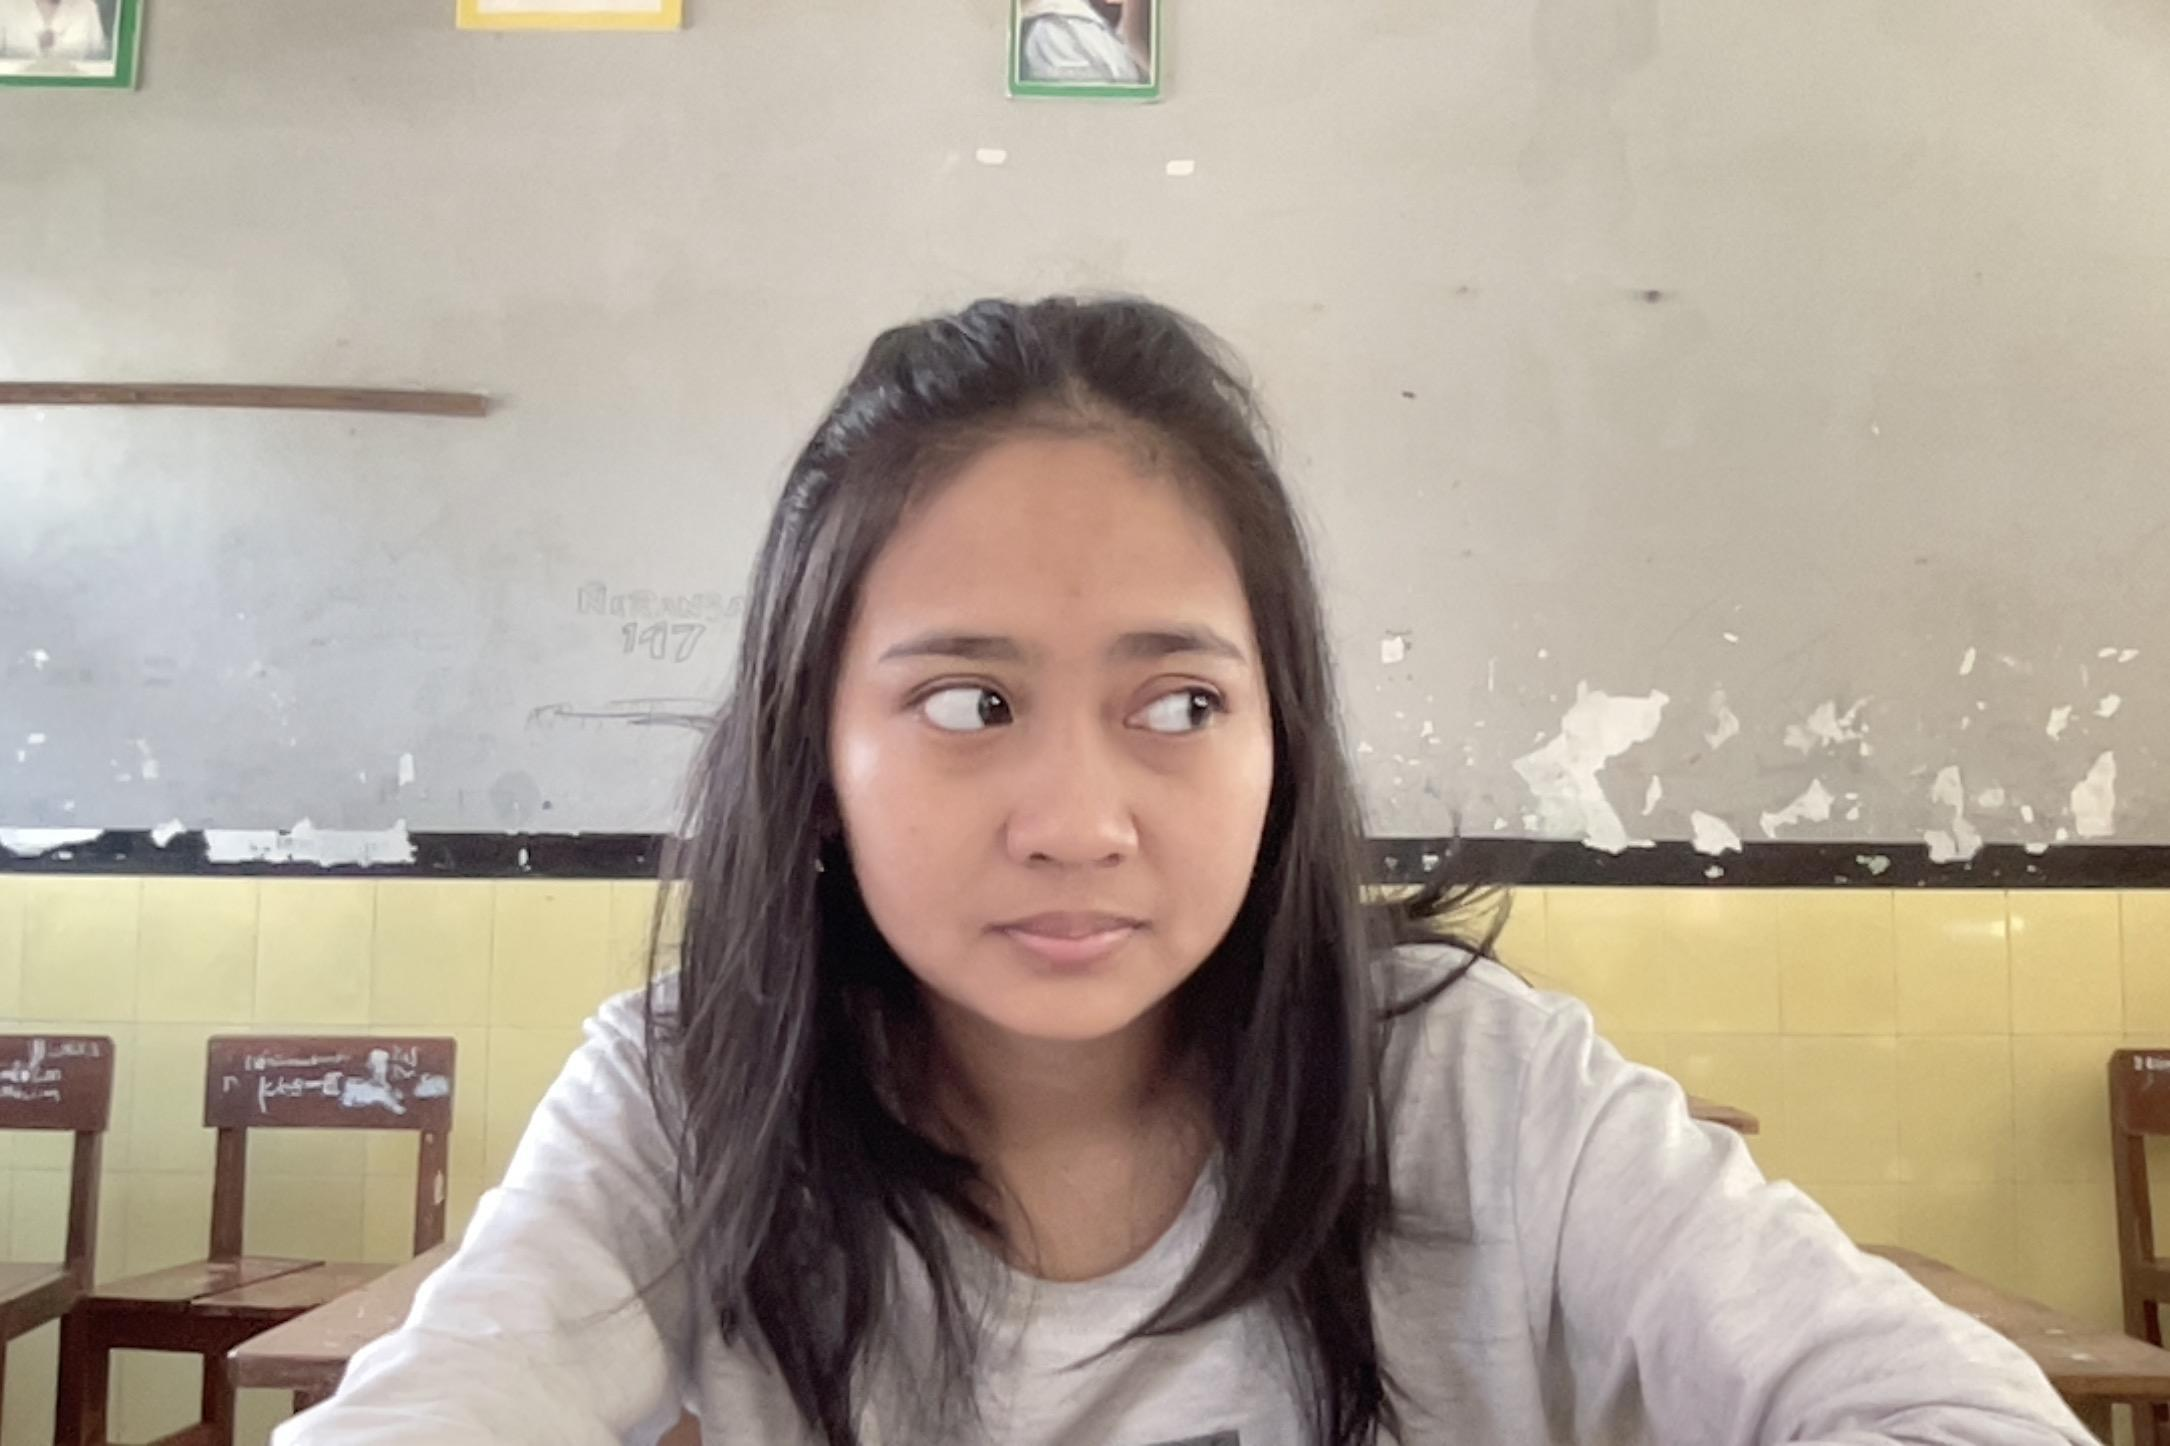cheating: (568, 211, 1610, 1446)
